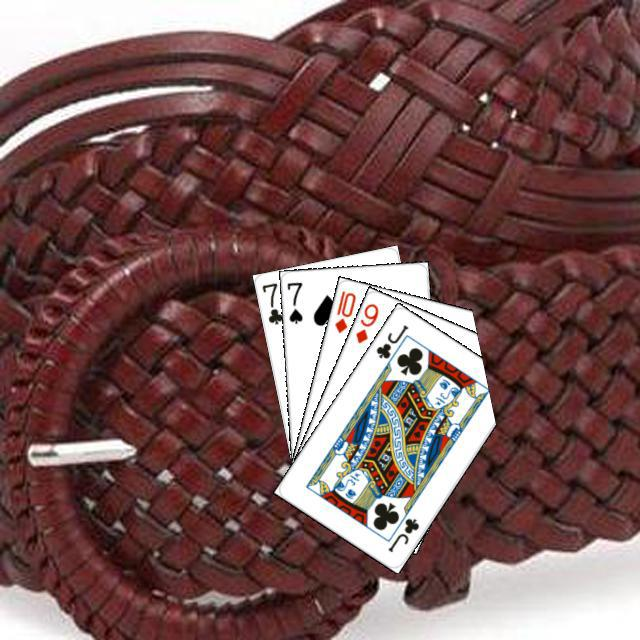10d: (330, 286, 358, 335)
7c: (257, 278, 285, 326)
7s: (282, 277, 304, 325)
9d: (350, 298, 380, 345)
Jc: (371, 320, 410, 360), (383, 513, 421, 554)
